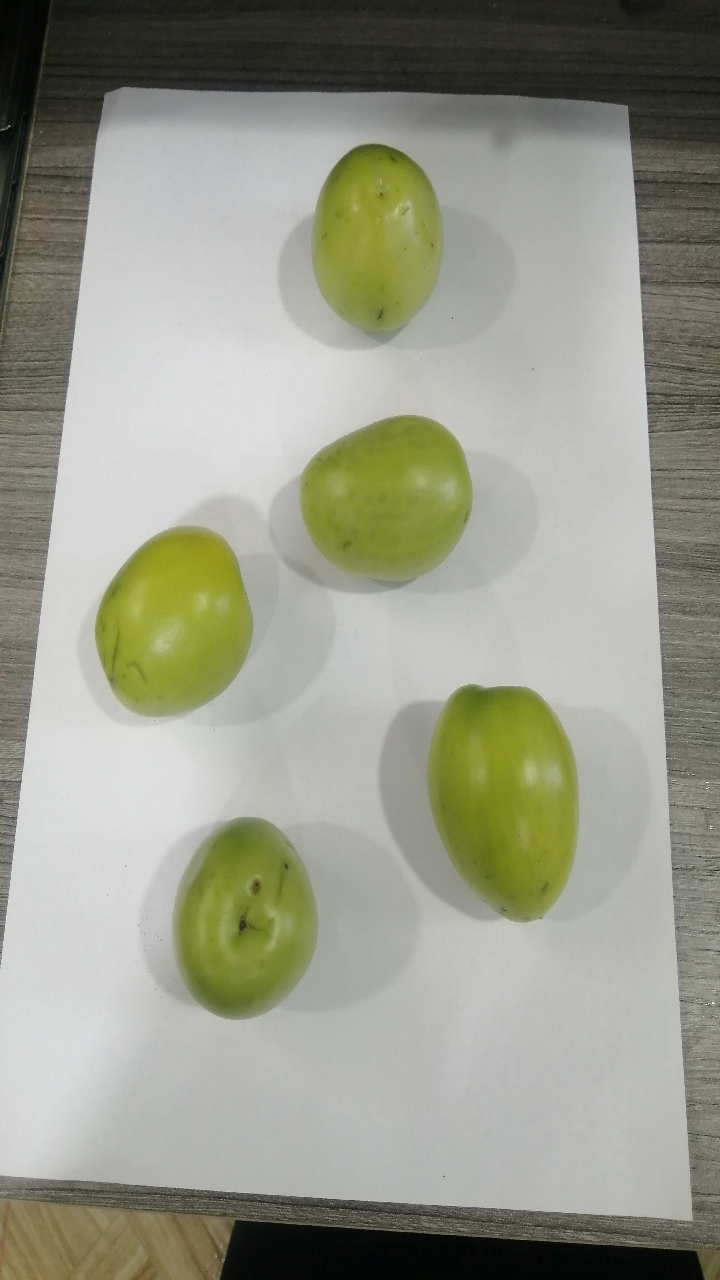tomateVerde: (272, 414, 520, 623), (417, 660, 595, 951), (152, 799, 344, 1049), (63, 505, 272, 734), (297, 123, 488, 368)
